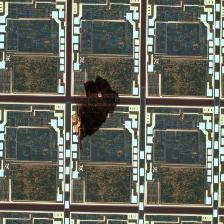PARTICLE: (71, 74, 123, 153)
